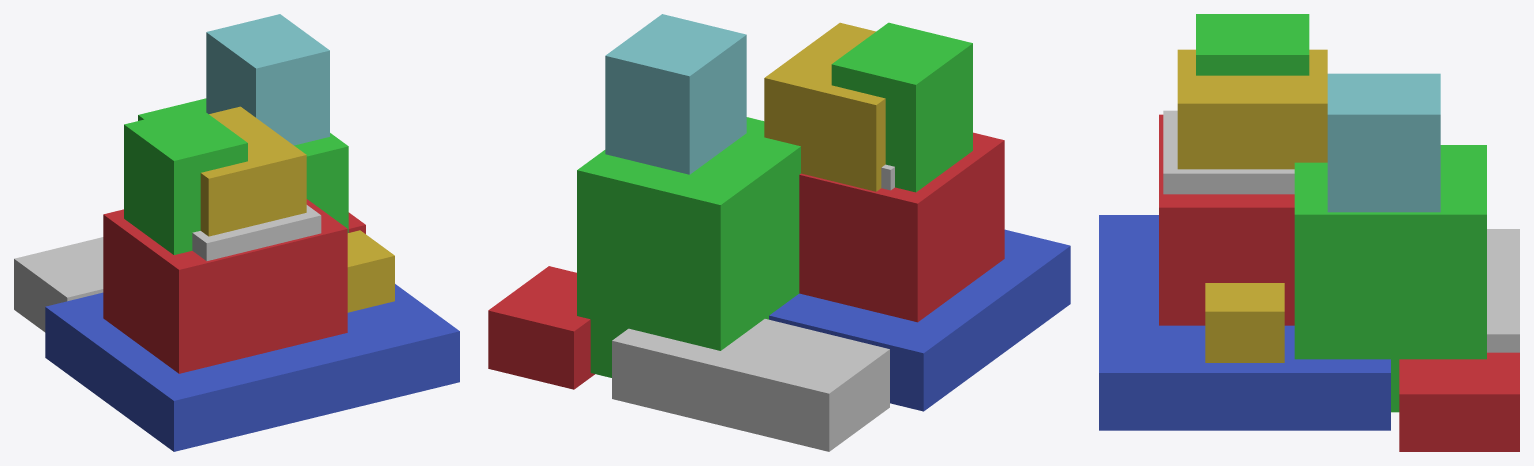
The model's file is piled.fbx.
The picture shows the model from 3 angles, left to right: view 1: azimuth 30°, elevation 25°; view 2: azimuth 150°, elevation 25°; view 3: azimuth 270°, elevation 25°; orthographic projection. The views are drawn at different scales.
Parts seen in each view (by area): view 1: piled; view 2: piled; view 3: piled.
Boxes of the visible parts, x1,y1,x2,y2 form: piled: (14, 14, 459, 451); piled: (488, 14, 1070, 451); piled: (1099, 14, 1519, 451).
Bounding box in the file's own units: 89.34 × 69.73 × 88.58.
